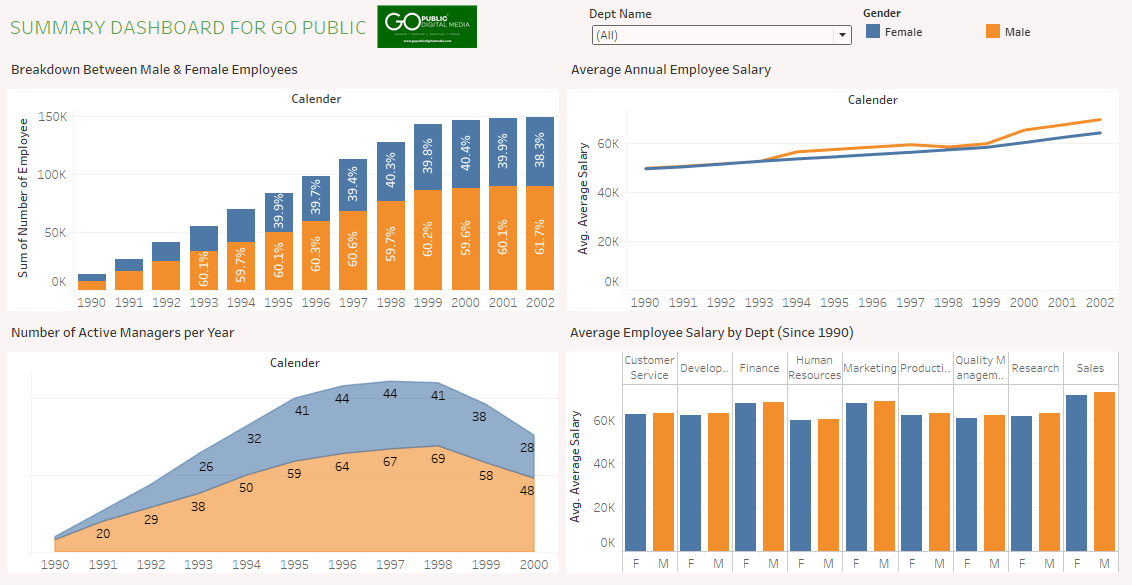

Layout of this report page (visuals, bound fields, positions):
{"tool":"tableau","page":{"name":"Summary Dashboard","canvas":[1000,1000],"units":"permille","ordinal":0},"visuals":[{"type":"text","box":[7,13.5,325.7,86.2]},{"type":"image","param":"C:/Users/user/Pictures/WhatsApp Images/IMG-20181012-WA0000.jpg","box":[332.8,13.5,186.6,86.2]},{"type":"filter","title":"Average Annual Employee Salary","param":"[federated.0wyg95y0eyqkwu1h939n50kr9me5].[none:dept_name:nk]","box":[519.4,13.5,241.2,86.2]},{"type":"legend","title":"Average Annual Employee Salary","param":"[federated.0wyg95y0eyqkwu1h939n50kr9me5].[none:Gender:nk]","box":[760.6,13.5,232.4,86.2]},{"type":"worksheet","title":"Breakdown Between Male & Female Employees","mark":"Automatic","rows":["Number_of_Employee"],"cols":["Calender"],"box":[7,99.7,492.9,443.4]},{"type":"worksheet","title":"Average Annual Employee Salary","mark":"Line","rows":["Average_Salary"],"cols":["calender"],"box":[500,99.7,493,443.4]},{"type":"worksheet","title":"Number of Active Managers per Year","mark":"Area","rows":["active"],"cols":["calender"],"box":[7,543.1,492.4,443.4]},{"type":"worksheet","title":"Average Employee Salary by Dept (Since 1990)","mark":"Bar","rows":["Average_Salary"],"cols":["dept_name","gender"],"box":[499.4,543.1,493.5,443.4]}]}

Visuals, with their boxes on the dashboard's canvas, which has no fixed pixel size, in thousandths of its width and height (x1, y1, x2, y2). These are canvas units, not pixel positions in the 1132x585 screenshot, which may show the page scaled, cropped or inside an application window:
text: (7, 14, 333, 100)
image: (333, 14, 519, 100)
"Average Annual Employee Salary" filter: (519, 14, 761, 100)
"Average Annual Employee Salary" legend: (761, 14, 993, 100)
"Breakdown Between Male & Female Employees" worksheet: (7, 100, 500, 543)
"Average Annual Employee Salary" worksheet (Line marks): (500, 100, 993, 543)
"Number of Active Managers per Year" worksheet (Area marks): (7, 543, 499, 986)
"Average Employee Salary by Dept (Since 1990)" worksheet (Bar marks): (499, 543, 993, 986)
